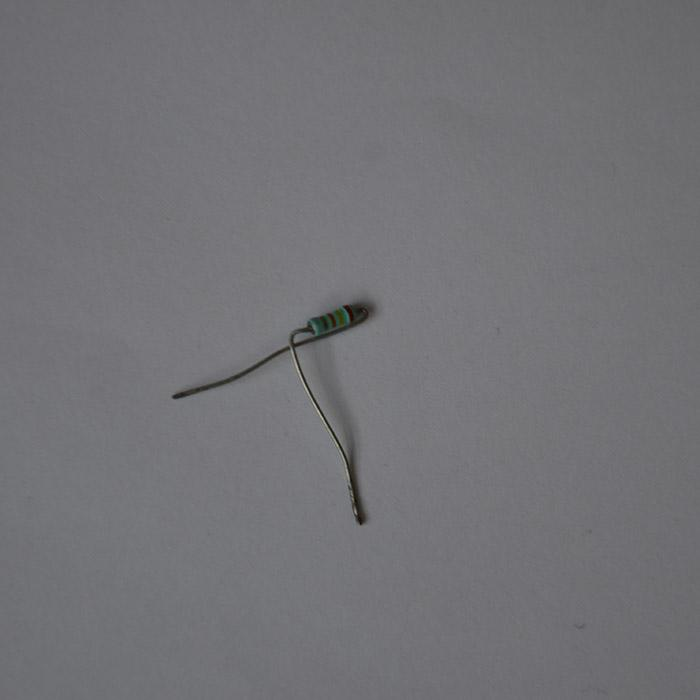resistor: (305, 303, 361, 336)
